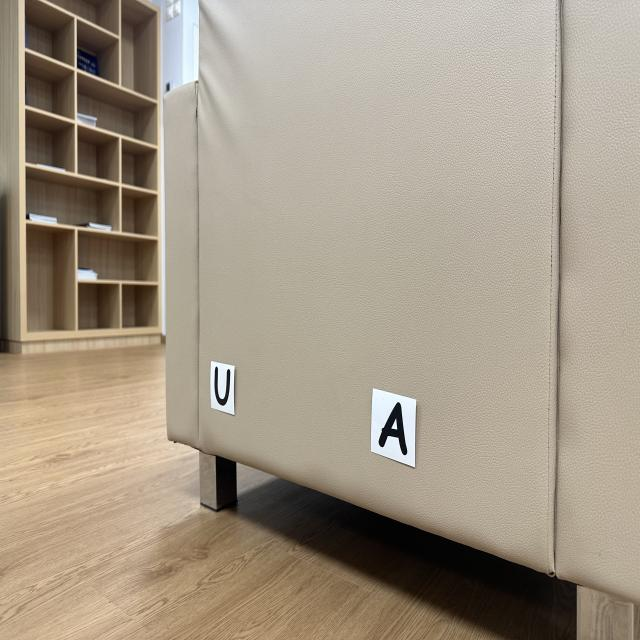A: (379, 402, 408, 455)
U: (215, 366, 231, 406)
